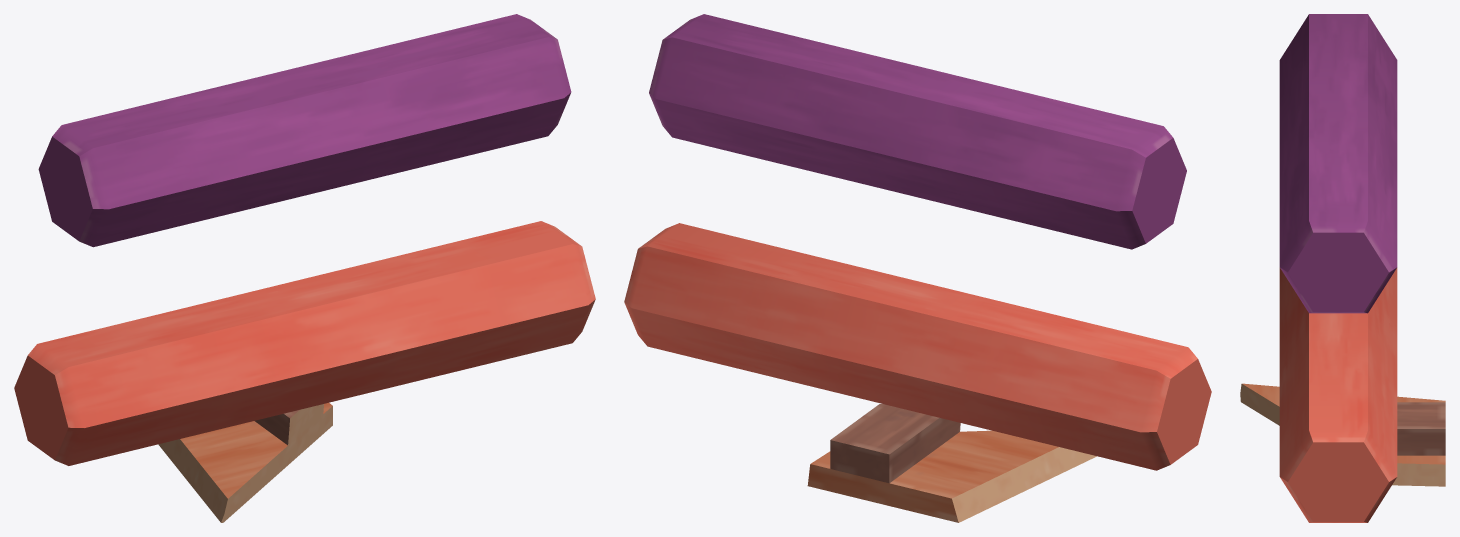
Rendered from bolts_s07.fbx.
The picture shows the model from 3 angles, left to right: view 1: azimuth 30°, elevation 25°; view 2: azimuth 150°, elevation 25°; view 3: azimuth 270°, elevation 25°; orthographic projection. The views are drawn at different scales.
Visible parts, largest first — view 1: bolts_s07; view 2: bolts_s07; view 3: bolts_s07.
Part boxes in pixels (bbox=[...]): bolts_s07: bbox=[14, 14, 595, 522]; bolts_s07: bbox=[624, 14, 1211, 522]; bolts_s07: bbox=[1240, 14, 1445, 522].
Bounding box in the file's own units: 5.4 × 3.63 × 1.96.
